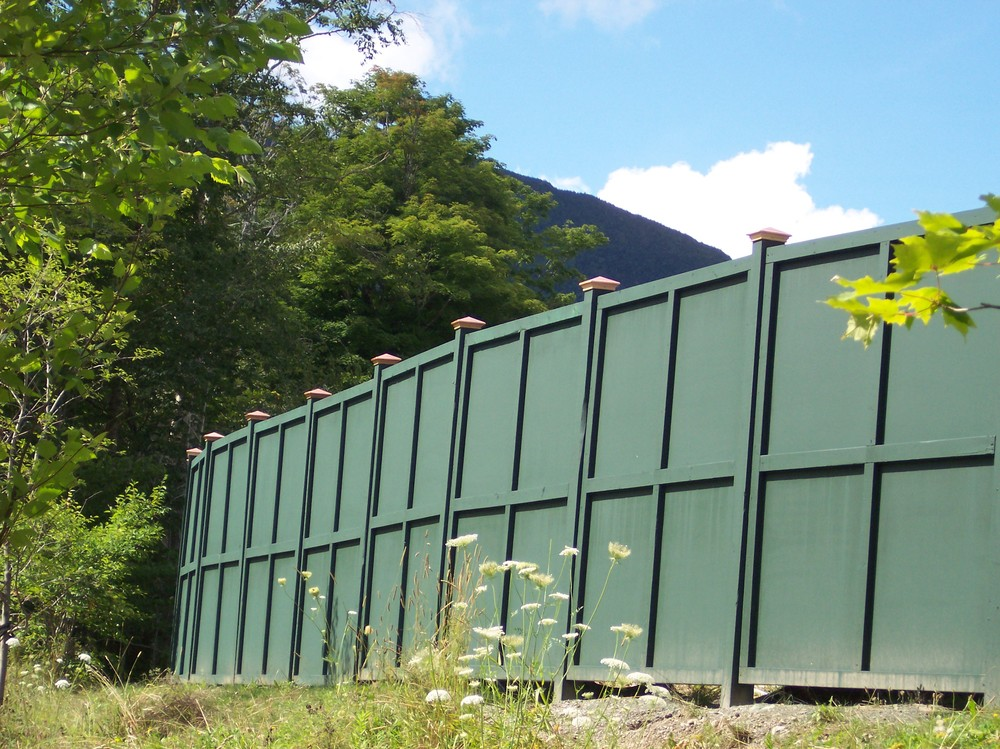Arbol: (1, 1, 200, 725)
Valla: (553, 212, 995, 690), (296, 325, 547, 683)
